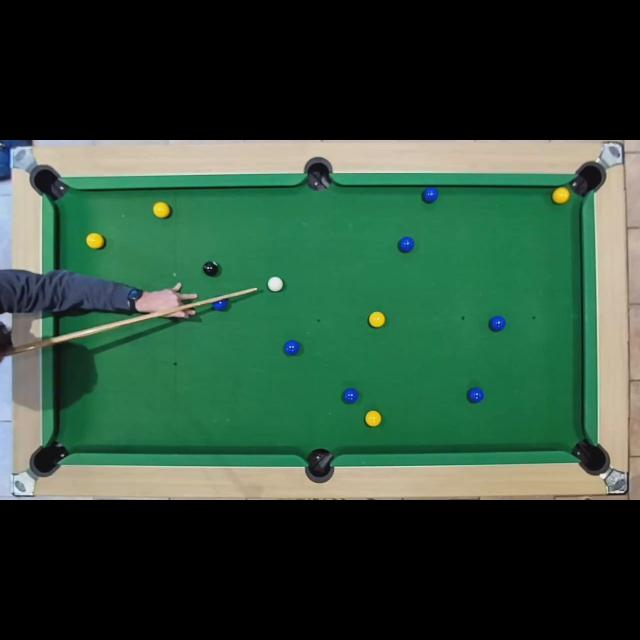Ball: (86, 233, 104, 249), (153, 202, 170, 218), (202, 260, 218, 276), (423, 187, 439, 203), (342, 388, 358, 404), (553, 187, 569, 203), (467, 387, 483, 403), (365, 411, 381, 427), (489, 316, 505, 332), (284, 340, 300, 356), (369, 312, 385, 328), (268, 276, 284, 292), (398, 237, 414, 253), (212, 296, 226, 312)
